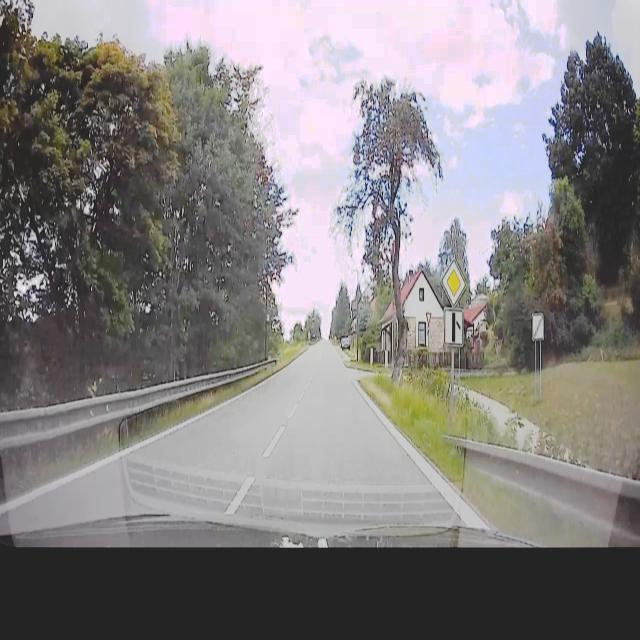Priority road: (438, 257, 471, 307)
